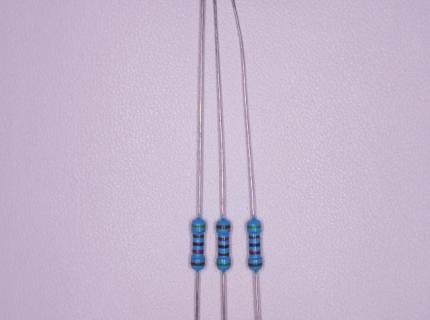Black band: (193, 242, 204, 246), (249, 243, 260, 247), (218, 245, 229, 248)
Brown band: (217, 224, 230, 229), (191, 261, 204, 266), (249, 263, 263, 267), (193, 234, 204, 238), (218, 252, 229, 256), (249, 235, 259, 239)
Green band: (191, 225, 205, 228), (216, 263, 230, 266), (247, 225, 261, 228)
Red band: (250, 250, 261, 254), (218, 237, 229, 241), (192, 250, 203, 254)
